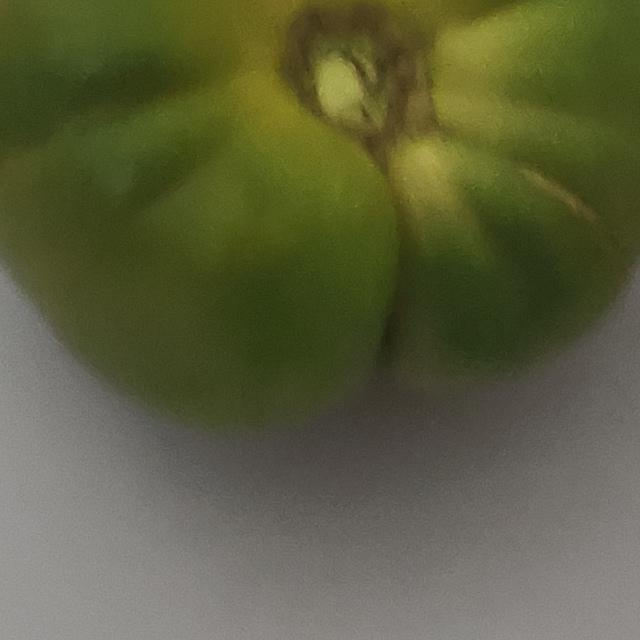tomato: (0, 0, 640, 444)
